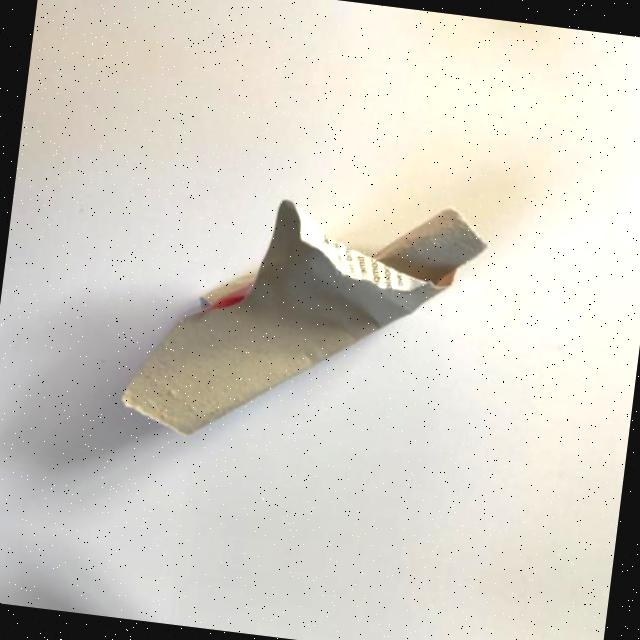paper: (82, 100, 500, 507), (138, 0, 516, 53), (64, 601, 439, 640)
